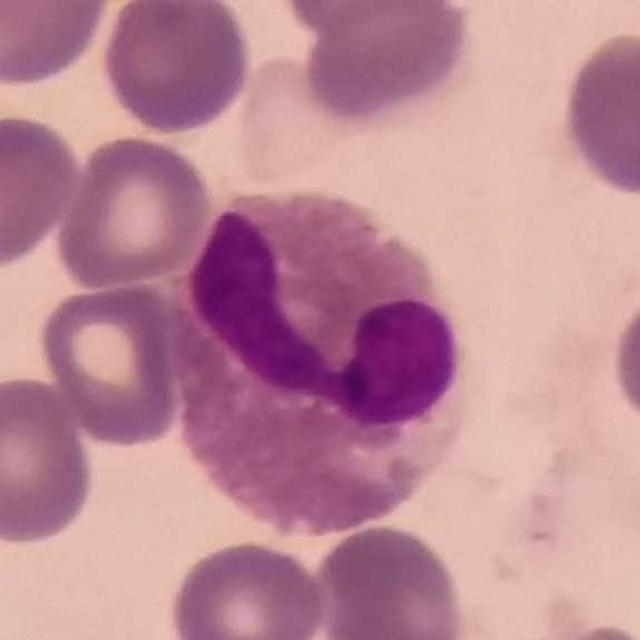Eosinophil: (175, 198, 471, 532)
RBC: (33, 277, 186, 450), (51, 131, 215, 292), (295, 0, 480, 131), (97, 0, 255, 137), (308, 518, 470, 640), (164, 535, 330, 640), (0, 372, 99, 548), (554, 25, 640, 202), (0, 109, 86, 275), (0, 0, 114, 89), (270, 0, 462, 41), (605, 274, 640, 445), (504, 616, 640, 640)
